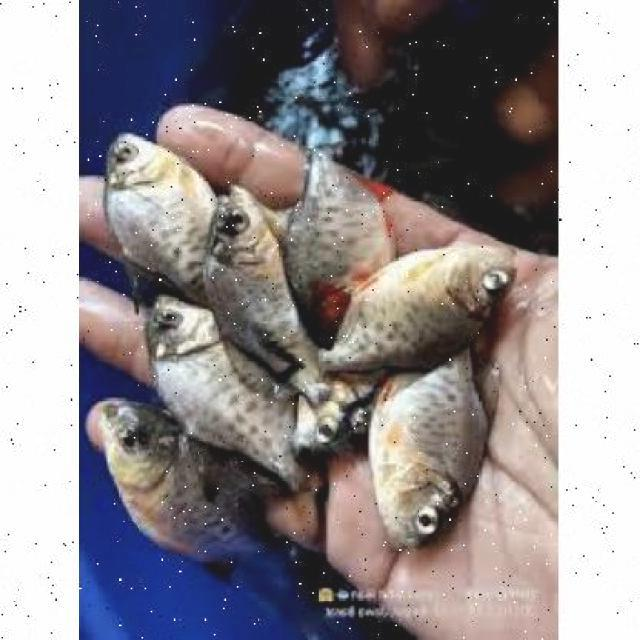ikan-pacu: (133, 298, 307, 462), (99, 407, 267, 562), (363, 356, 492, 550), (206, 188, 326, 378), (331, 240, 518, 360), (94, 123, 214, 274)
